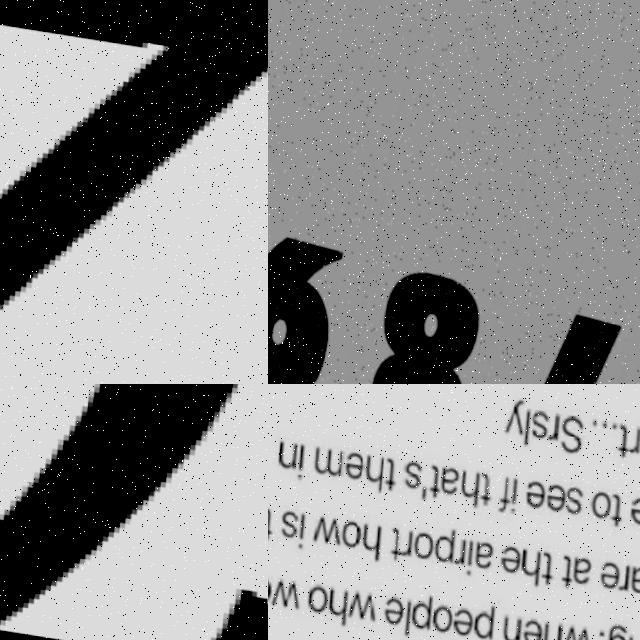7: (0, 384, 268, 640), (501, 276, 632, 384)
8: (356, 249, 502, 384)
9: (268, 196, 357, 384)
A: (439, 459, 463, 490), (474, 533, 496, 566), (573, 546, 593, 580), (630, 554, 640, 586)
E: (525, 473, 548, 502), (502, 537, 522, 569), (522, 611, 544, 640), (453, 602, 475, 631), (546, 475, 566, 506), (345, 447, 365, 478), (601, 552, 621, 582), (385, 593, 405, 622), (629, 489, 640, 517), (268, 573, 274, 603)
F: (500, 470, 512, 507)
G: (607, 614, 630, 640)
H: (520, 541, 542, 581), (328, 585, 349, 624), (362, 519, 383, 557), (460, 465, 480, 504), (365, 452, 385, 490), (542, 613, 564, 640)
I: (467, 533, 475, 571), (299, 511, 307, 548), (511, 471, 519, 508), (299, 442, 306, 478)
L: (524, 403, 531, 442), (406, 596, 413, 633)
M: (314, 444, 346, 475)
N: (278, 438, 300, 470), (502, 610, 525, 640), (628, 626, 640, 640)
O: (413, 526, 436, 558), (307, 583, 331, 613), (342, 517, 363, 548), (591, 482, 613, 511), (434, 600, 454, 629)
P: (411, 587, 434, 626), (435, 521, 456, 559), (476, 596, 496, 634)
R: (617, 555, 632, 586), (454, 533, 468, 562), (400, 526, 414, 555), (547, 406, 561, 434), (628, 417, 640, 446)
S: (558, 407, 584, 448), (403, 455, 423, 486), (281, 508, 299, 539), (565, 479, 583, 508), (531, 404, 549, 433)
T: (384, 454, 399, 488), (542, 544, 556, 580), (429, 460, 443, 496), (617, 416, 631, 452), (561, 547, 574, 583), (611, 485, 624, 521), (392, 523, 404, 557), (480, 466, 492, 500), (268, 504, 274, 540)
W: (348, 588, 379, 619), (313, 513, 345, 543), (272, 578, 302, 608), (561, 617, 593, 640)
Y: (506, 390, 527, 431)
Z: (0, 0, 268, 384)
